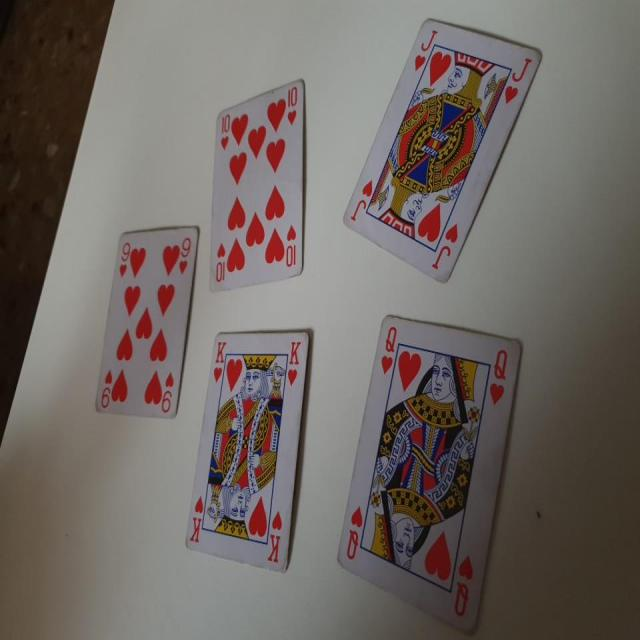10 Hearts: (202, 66, 311, 292)
9 Hearts: (89, 216, 200, 423)
J Hearts: (335, 20, 550, 289)
K Hearts: (180, 329, 314, 582)
Q Hearts: (328, 299, 520, 622)
